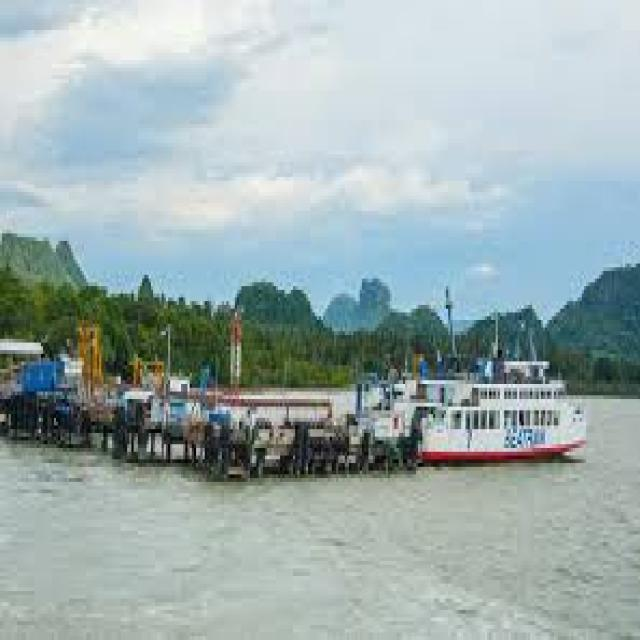passenger ship: (388, 309, 599, 477)
